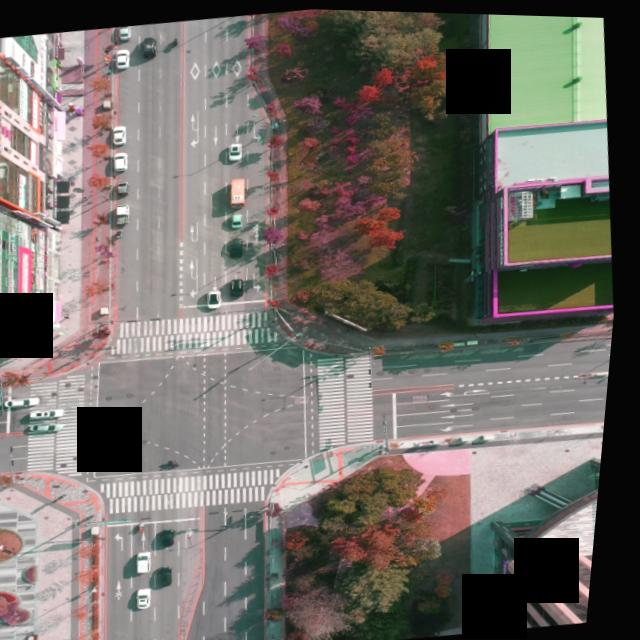car: (37, 419, 73, 433), (10, 394, 48, 407), (141, 34, 159, 58), (38, 407, 73, 419), (112, 123, 131, 145), (146, 549, 164, 572), (147, 584, 165, 606), (116, 49, 134, 69), (115, 151, 132, 171), (235, 234, 251, 255), (168, 565, 184, 585), (169, 528, 185, 548), (231, 142, 248, 160), (236, 276, 252, 294), (118, 24, 135, 40), (212, 289, 227, 306), (118, 180, 134, 195), (236, 211, 251, 226)
small_bus: (231, 174, 254, 207)
small_truck: (116, 201, 135, 223)
